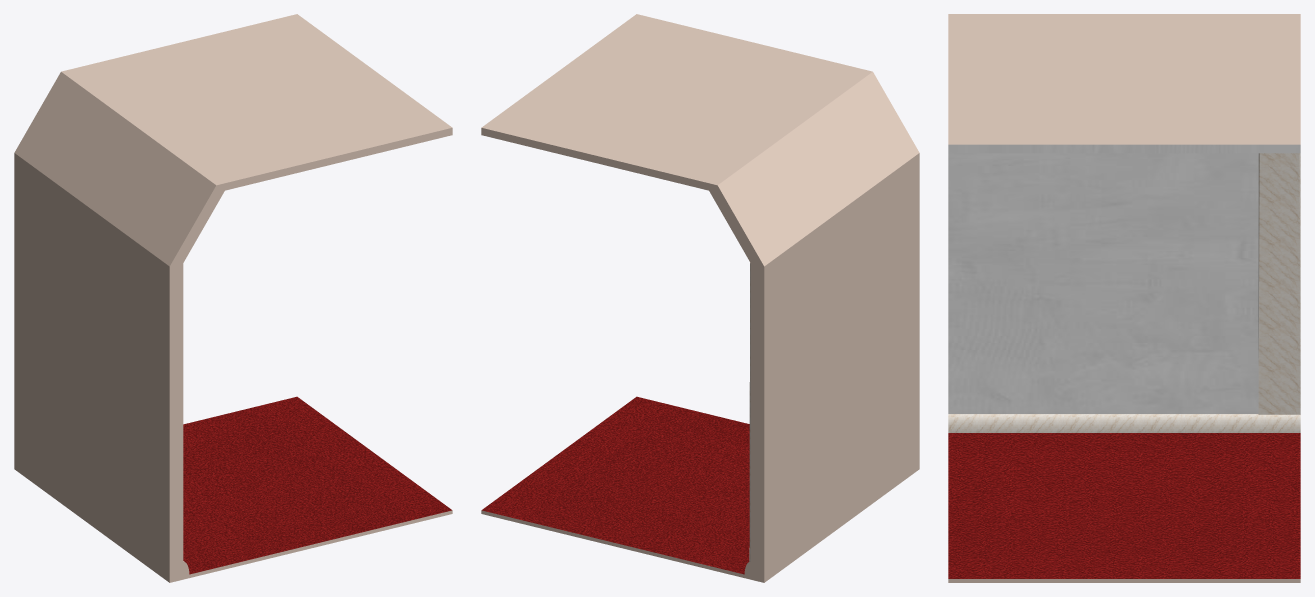
The model's file is Pared con columna.fbx.
3 renders of one model, left to right at view 1: azimuth 30°, elevation 25°; view 2: azimuth 150°, elevation 25°; view 3: azimuth 270°, elevation 25°, orthographic. The views are drawn at different scales.
Visible parts, largest first — view 1: Pared y piso con columna; view 2: Pared y piso con columna; view 3: Pared y piso con columna.
Part boxes in pixels (box(x1,y1,x2,y2)): Pared y piso con columna: box(14, 14, 452, 582); Pared y piso con columna: box(481, 14, 919, 582); Pared y piso con columna: box(948, 14, 1300, 582).
Bounding box in the file's own units: 421 × 549 × 401.
4 materials, 3 textured.
